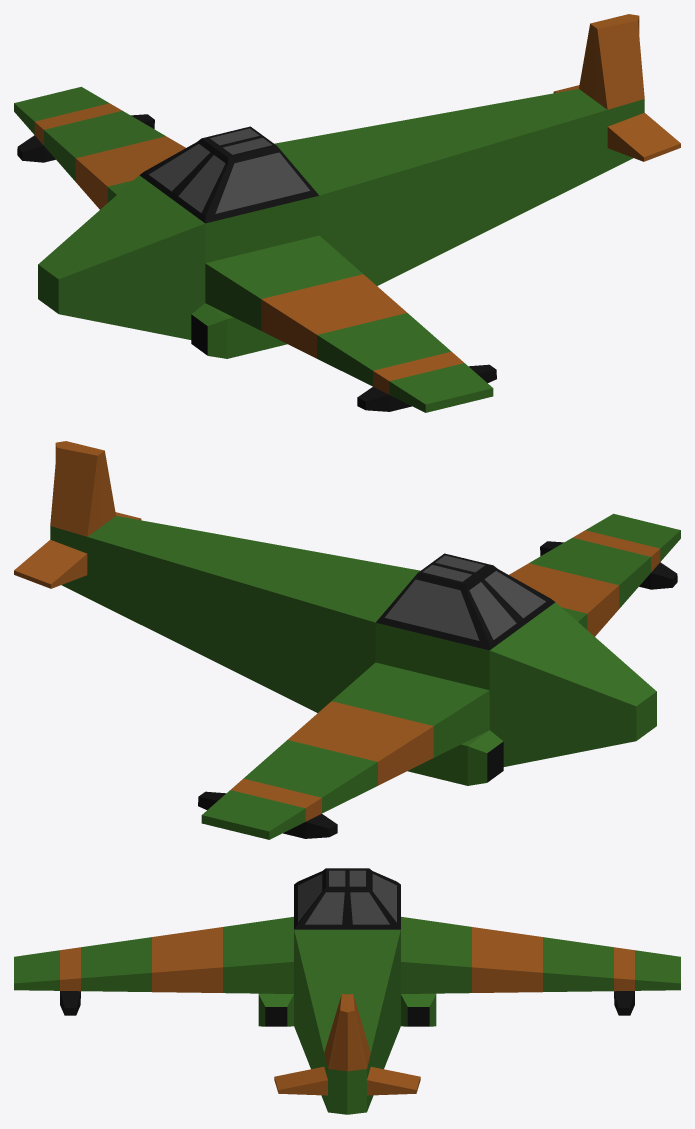
Rendered from Jet.fbx.
3 views of the same model, one above another, from view 1: azimuth 30°, elevation 25°; view 2: azimuth 150°, elevation 25°; view 3: azimuth 270°, elevation 25° (orthographic). The views are drawn at different scales.
Visible parts, largest first — view 1: Cube; view 2: Cube; view 3: Cube.
Part boxes in pixels (box(x1,y1,x2,y2)): Cube: box(14, 14, 680, 412); Cube: box(14, 441, 680, 839); Cube: box(14, 868, 680, 1114).
Bounding box in the file's own units: 1036 × 318 × 1250.
